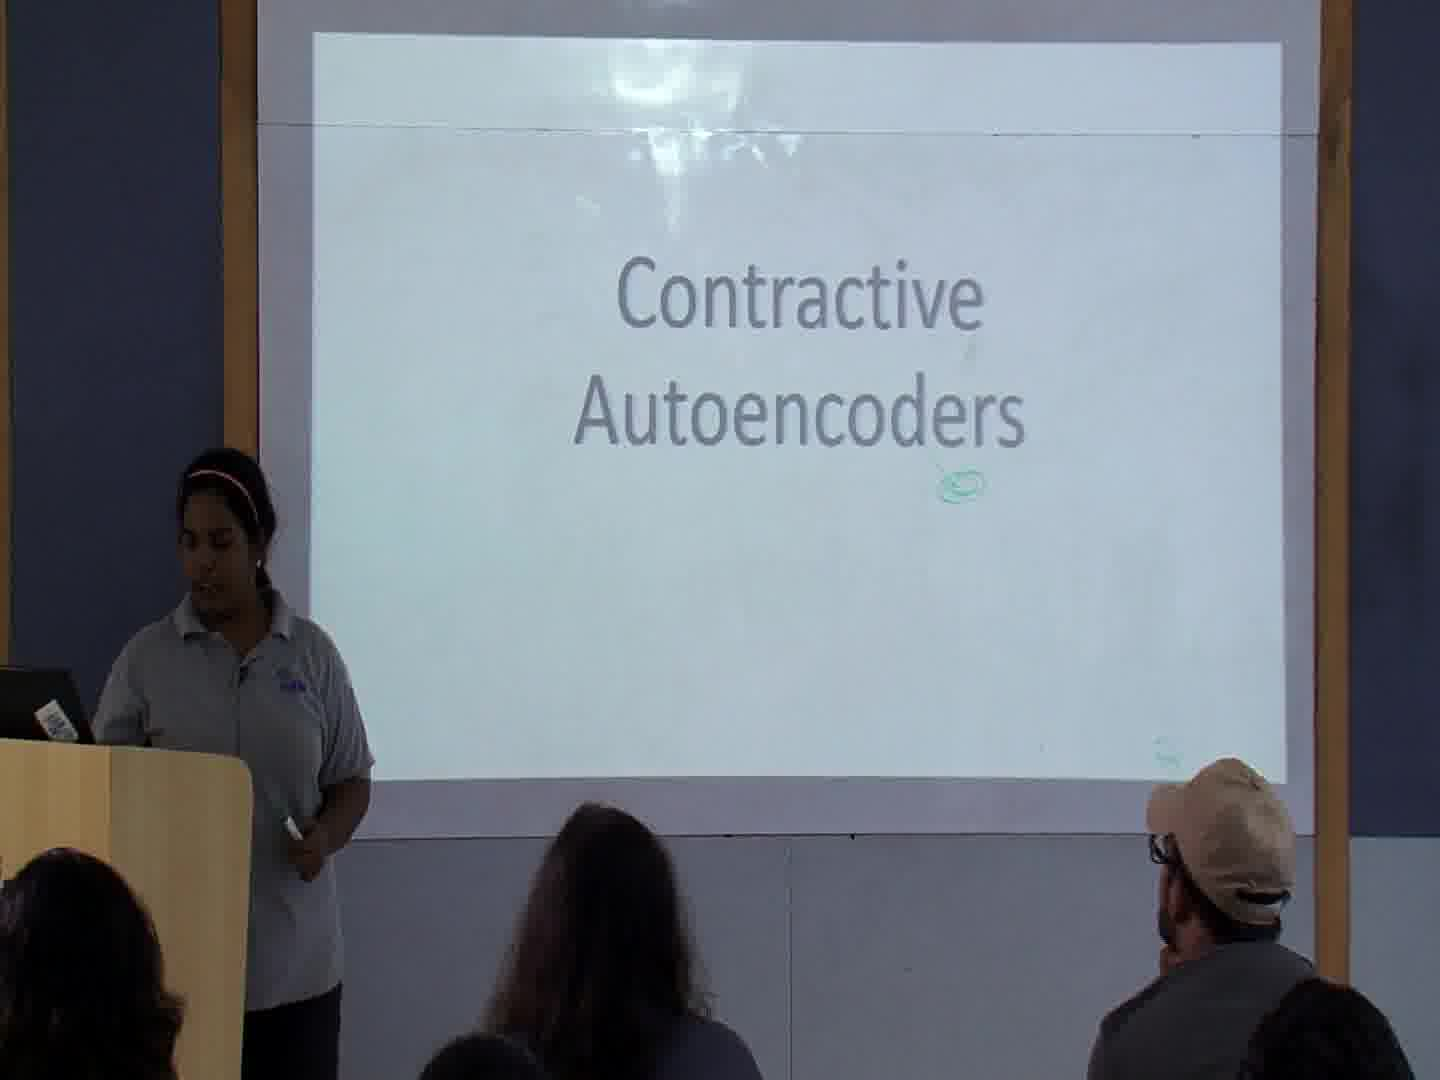slide: (313, 34, 1284, 785)
